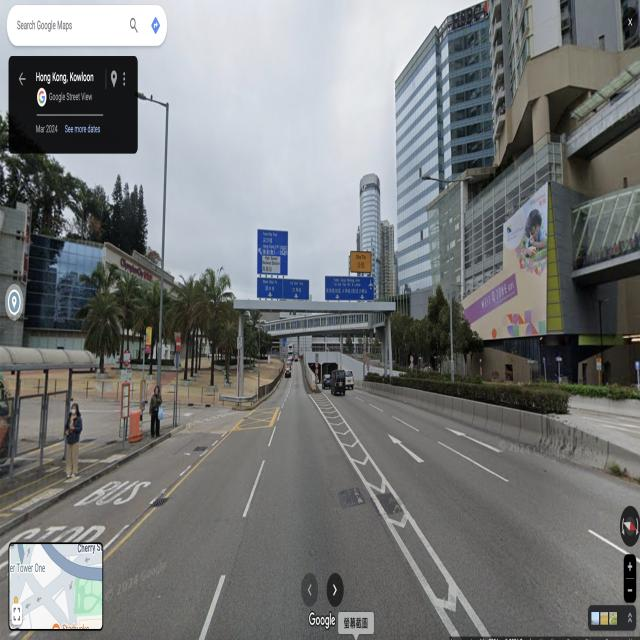Direction-Sign: (257, 230, 288, 275), (325, 276, 374, 300), (258, 278, 309, 299)
Order-Sign: (176, 336, 181, 352), (315, 354, 319, 362), (363, 350, 367, 356), (364, 335, 366, 344), (367, 363, 370, 369), (363, 345, 367, 349), (367, 357, 370, 362), (316, 362, 318, 368), (316, 368, 318, 374), (316, 374, 318, 380), (364, 357, 366, 362)
